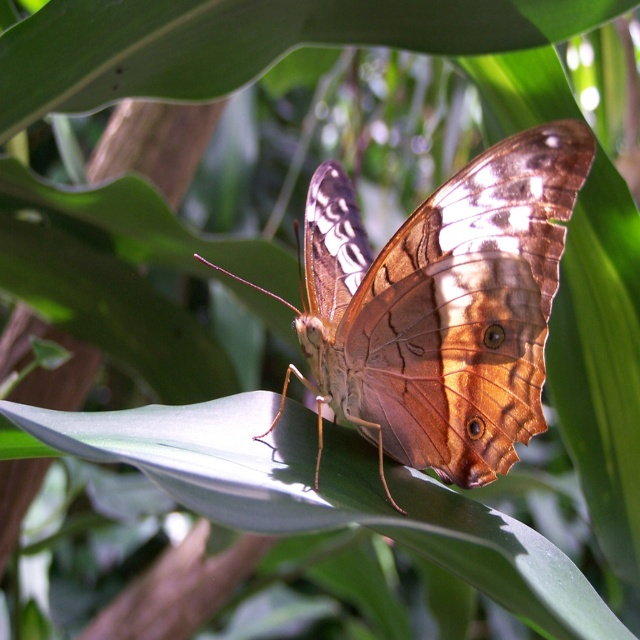Butterfly: (190, 118, 598, 522)
